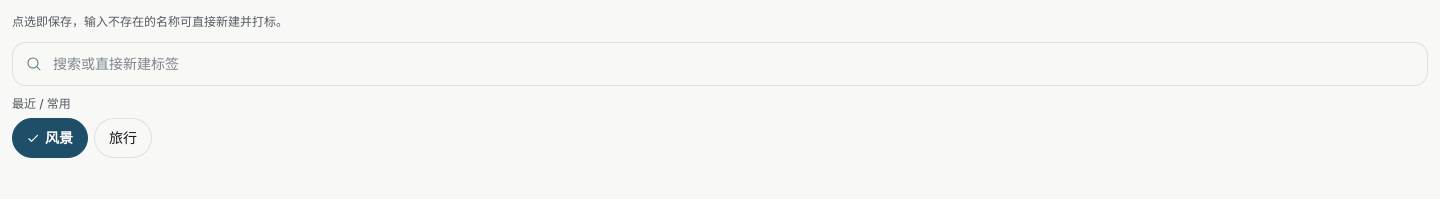
Scenario: retains failed selections and supports retrying the same explicit change
Click the checkbox labelled "旅行": (123,138) x1=94 y1=118 x2=152 y2=158
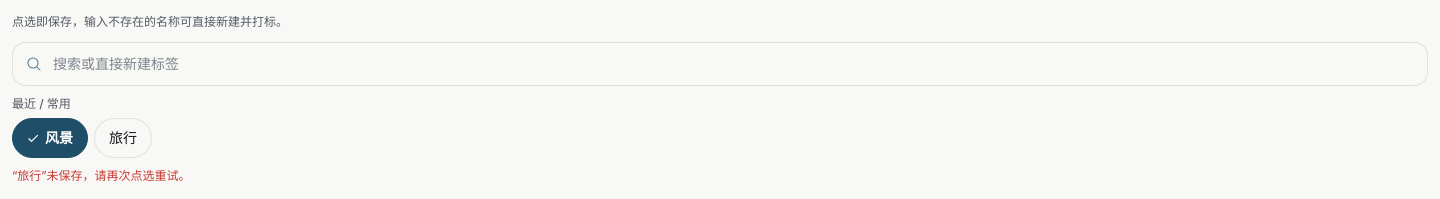
Expected: the message "“旅行”未保存，请再次点选重试。" is shown, x1=12 y1=168 x2=191 y2=182
Click the checkbox labelled "旅行": (123,138) x1=94 y1=118 x2=152 y2=158
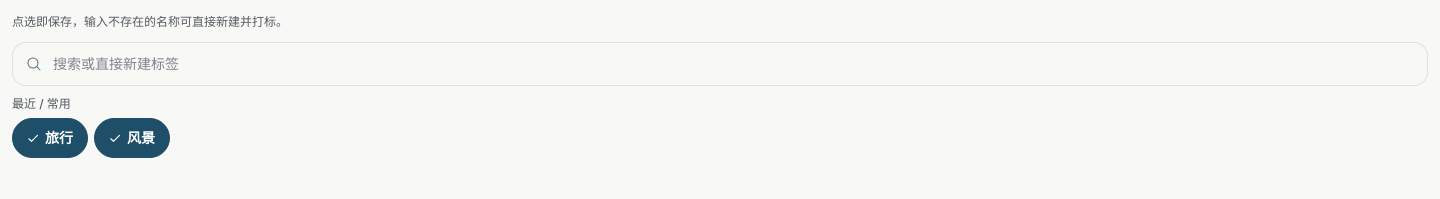
Expected: the message "“旅行”未保存，请再次点选重试。" is gone
